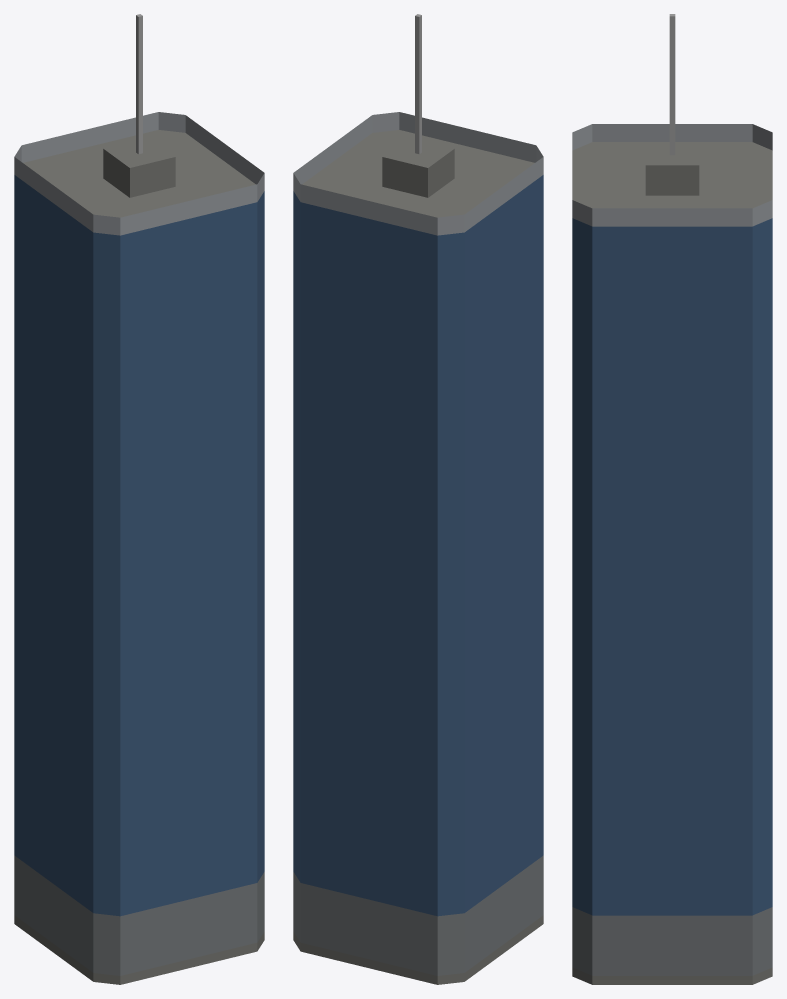
3 renders of one model, left to right at view 1: azimuth 30°, elevation 25°; view 2: azimuth 150°, elevation 25°; view 3: azimuth 270°, elevation 25°, orthographic.
Parts seen in each view (by area): view 1: TW_T4_30F_LOD0; view 2: TW_T4_30F_LOD0; view 3: TW_T4_30F_LOD0.
Part boxes in pixels (<box>): TW_T4_30F_LOD0: <box>14,14,264,984</box>; TW_T4_30F_LOD0: <box>293,14,543,984</box>; TW_T4_30F_LOD0: <box>572,14,772,984</box>.
Size of what is drawn, in the model's own units: 30 by 154 by 30.
